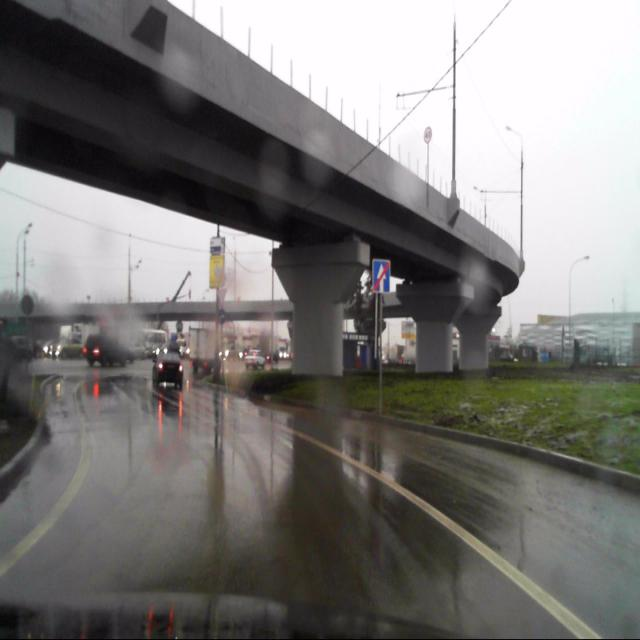road sign: (372, 260, 390, 292)
